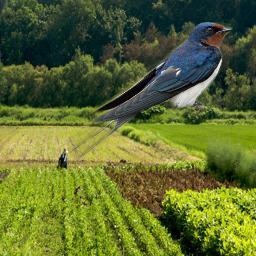Swallow: (68, 22, 233, 160)
